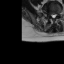CCS_normal: (52, 11, 54, 20)
LFS_stenosis: (56, 11, 59, 16)
LLS_normal: (54, 11, 56, 19)
RFS_stenosis: (48, 11, 50, 16)
RLS_normal: (50, 11, 52, 19)
